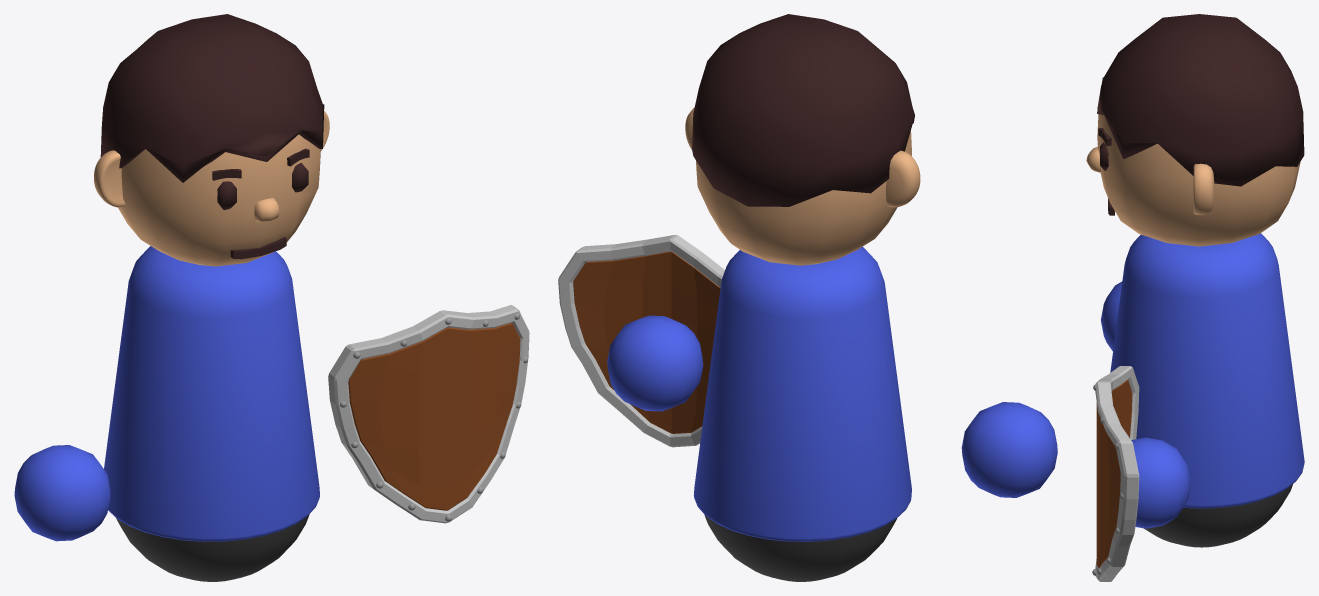
The model's file is mii-shield.glb.
The picture shows the model from 3 angles, left to right: view 1: azimuth 30°, elevation 25°; view 2: azimuth 150°, elevation 25°; view 3: azimuth 270°, elevation 25°; orthographic projection. The views are drawn at different scales.
Parts seen in each view (by area): view 1: 球.007; view 2: 球.007; view 3: 球.007.
Boxes of the visible parts, x1,y1,x2,y2 form: 球.007: [14, 14, 529, 581]; 球.007: [558, 14, 1057, 581]; 球.007: [1086, 14, 1304, 581].
Bounding box in the file's own units: 1.73 × 1.8 × 0.6984.
